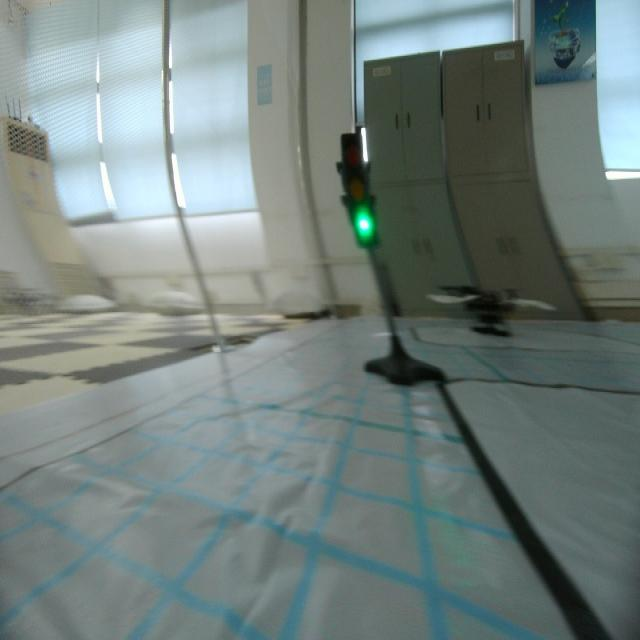red: (336, 127, 380, 252)
